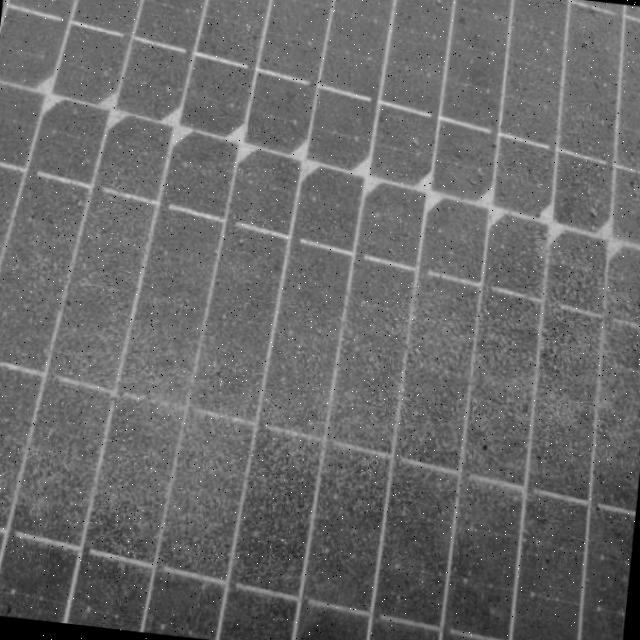Surface Contaminant: (4, 61, 640, 640)
